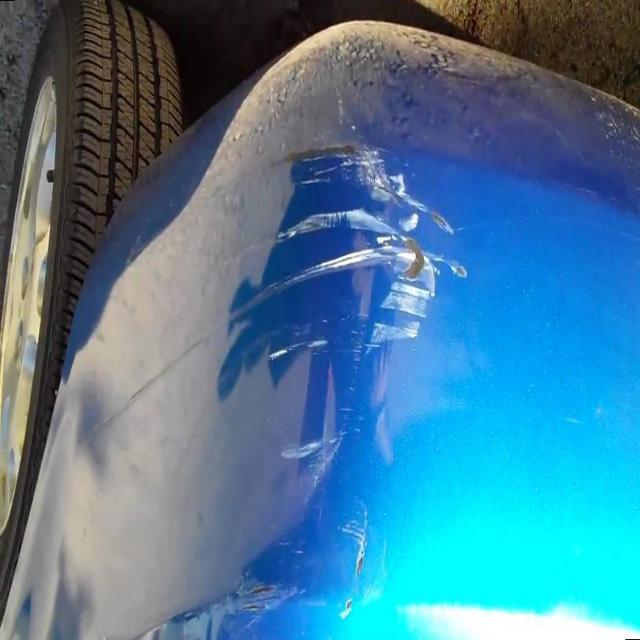scratch: (256, 99, 464, 544)
